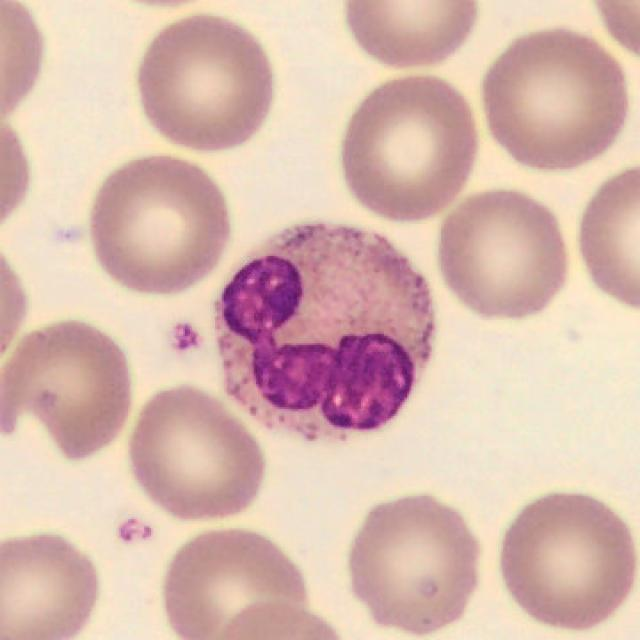Neutrofilo segmentado: (217, 224, 432, 439)
